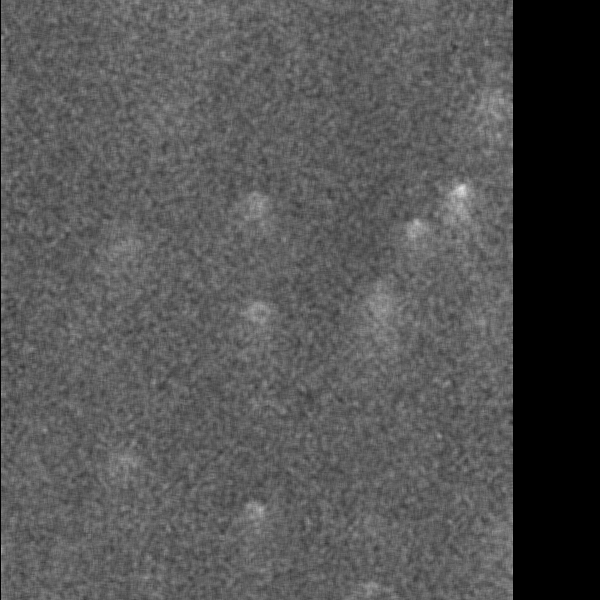spark: (367, 278, 397, 384), (236, 294, 278, 354), (443, 178, 475, 245), (234, 190, 279, 237), (246, 498, 268, 540), (110, 450, 147, 470), (407, 214, 424, 256)
